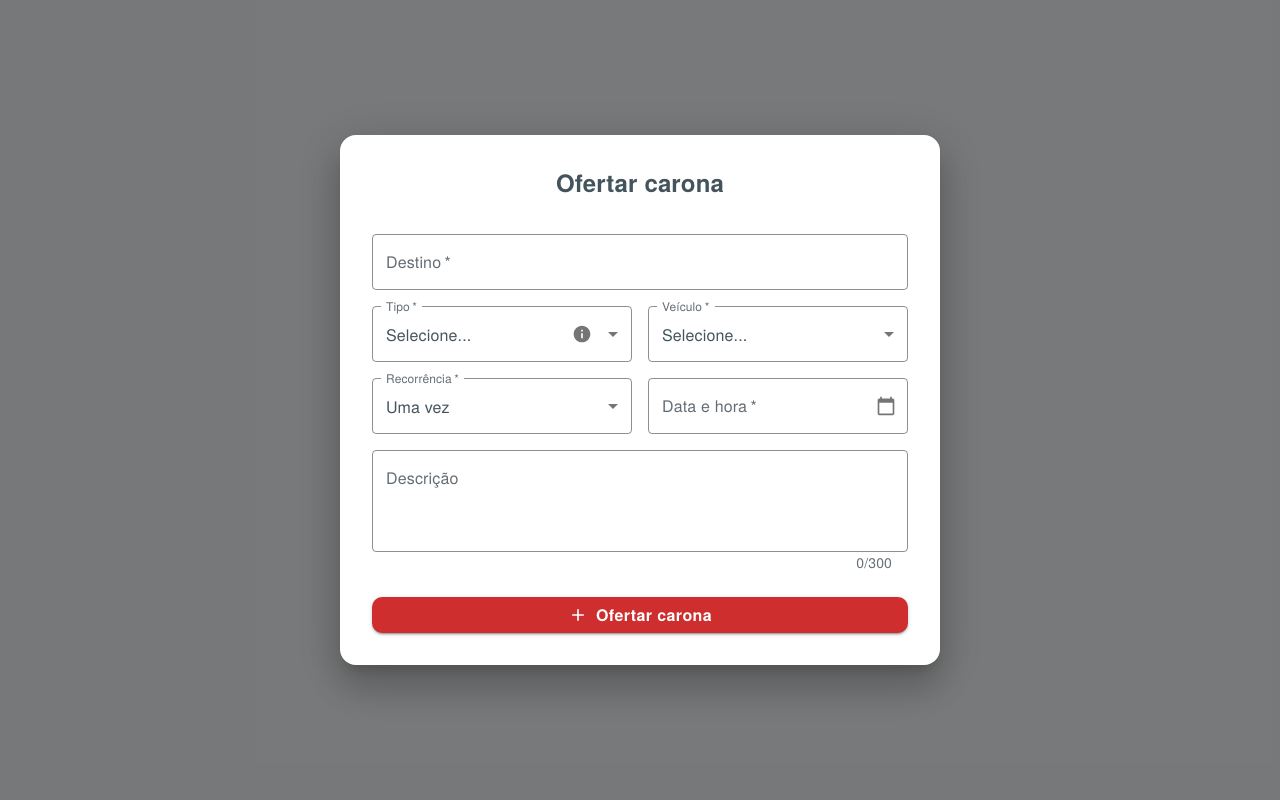
Test case: RideFormDialog › should refuse to submit an empty form and say what is missing
This screenshot has width=1280, height=800.
Expected: the heading "Ofertar carona" is shown, x1=556 y1=165 x2=724 y2=199
Click the button "Ofertar carona" at (640, 615), box x1=372 y1=597 x2=908 y2=633
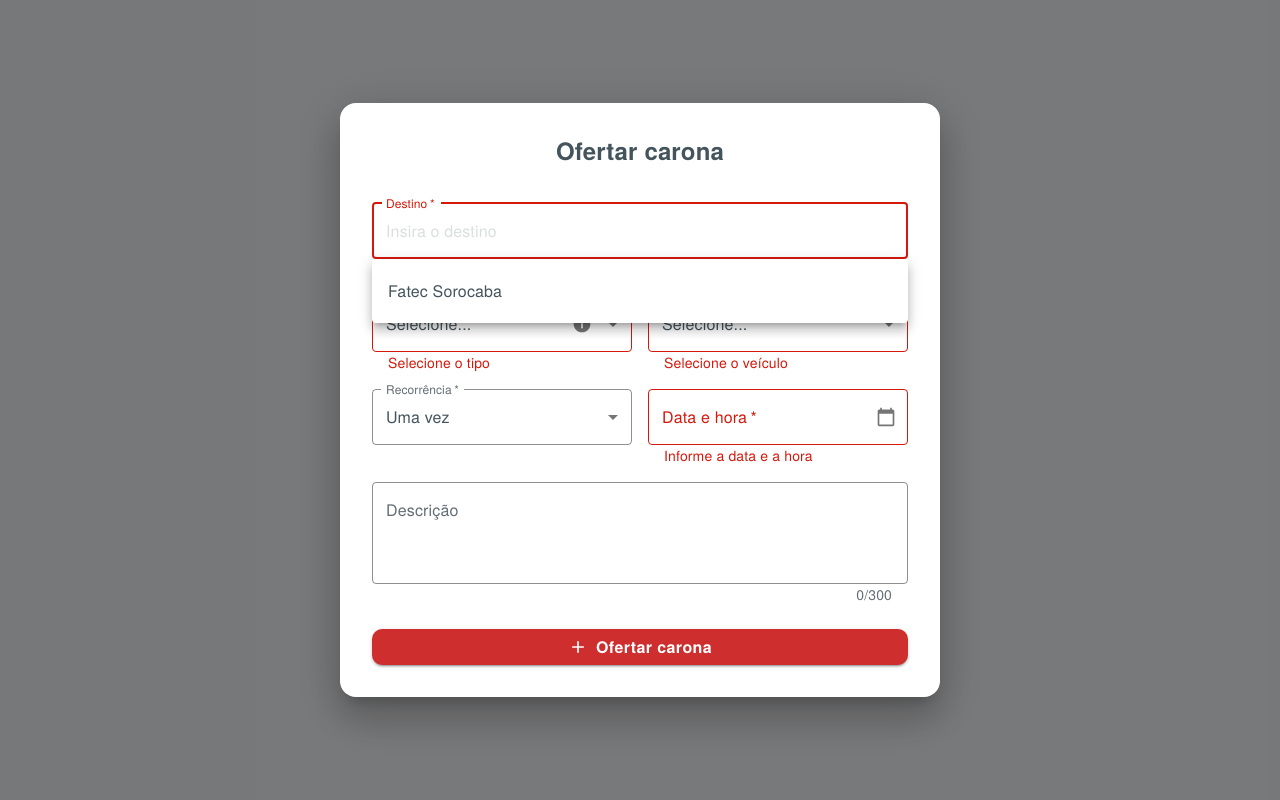
Expected: the text "O destino deve ter ao menos 3 caracteres" is shown, x1=388 y1=259 x2=654 y2=279
